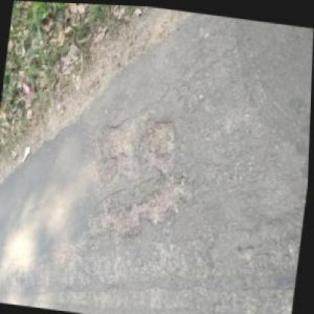Hueco: (84, 100, 205, 248)
